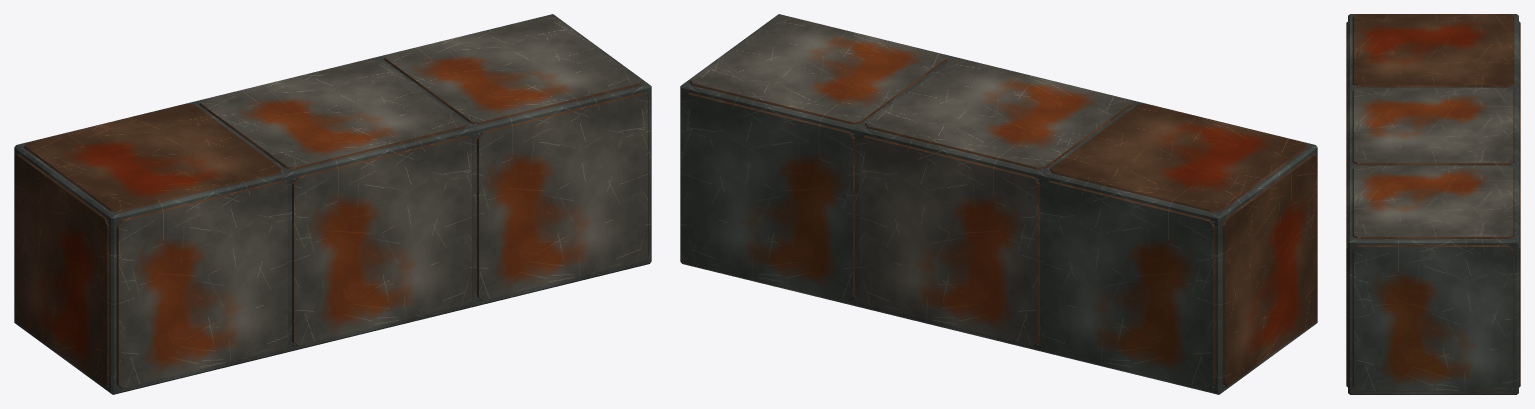
Rendered from R4B_Beam3.glb.
3 views of the same model, side by side, from view 1: azimuth 30°, elevation 25°; view 2: azimuth 150°, elevation 25°; view 3: azimuth 270°, elevation 25° (orthographic). The views are drawn at different scales.
Visible parts, largest first — view 1: R4B_Beam3; view 2: R4B_Beam3; view 3: R4B_Beam3.
Boxes of the visible parts, box(x1,y1,x2,y2) form: R4B_Beam3: box(14, 14, 651, 394); R4B_Beam3: box(680, 14, 1317, 394); R4B_Beam3: box(1346, 14, 1520, 394).
Size of the model in its own units: 1.62 by 0.52 by 0.52.
4 materials, 4 textured.
